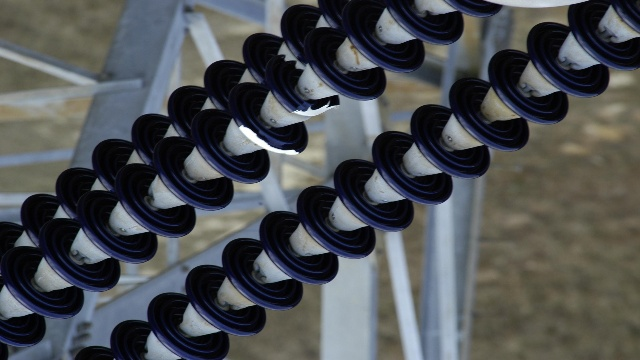broken_local: (237, 122, 301, 159), (286, 99, 342, 119)
insulator_unspecified: (1, 0, 639, 359)
